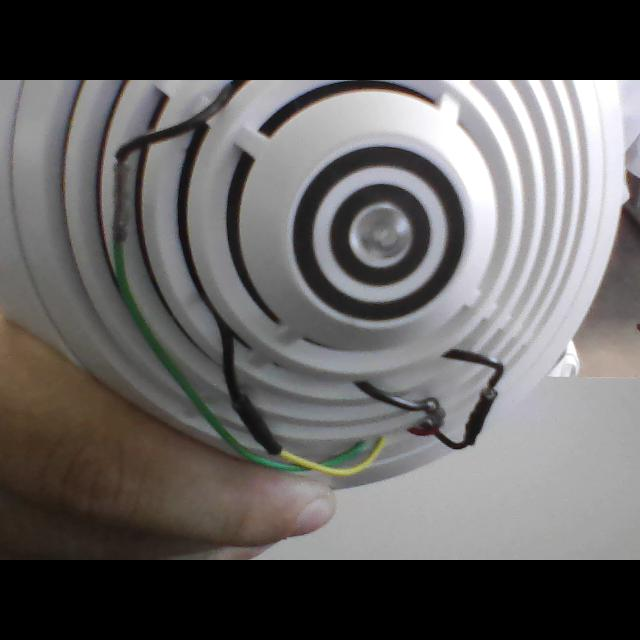Smoke-Detector: (0, 80, 618, 490)
